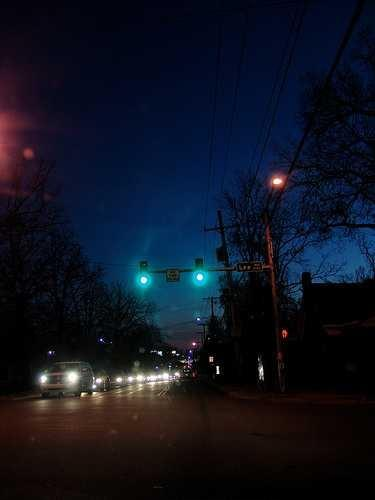green: (193, 256, 205, 285), (139, 257, 149, 286)
